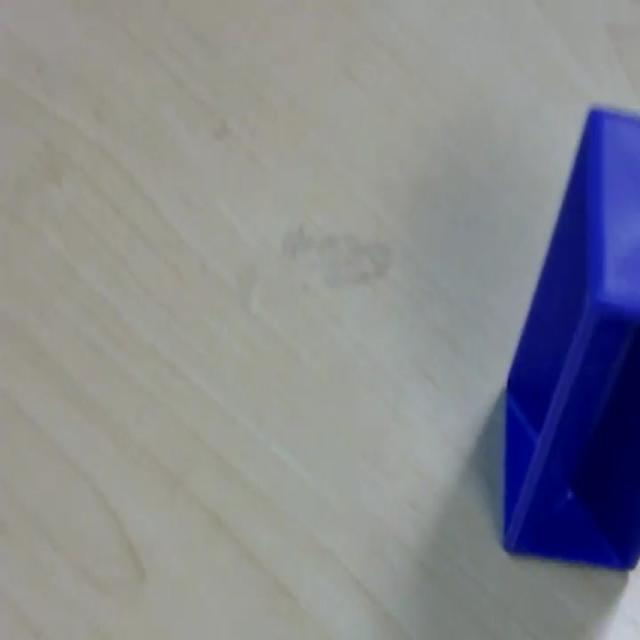blue_block: (501, 102, 638, 570)
